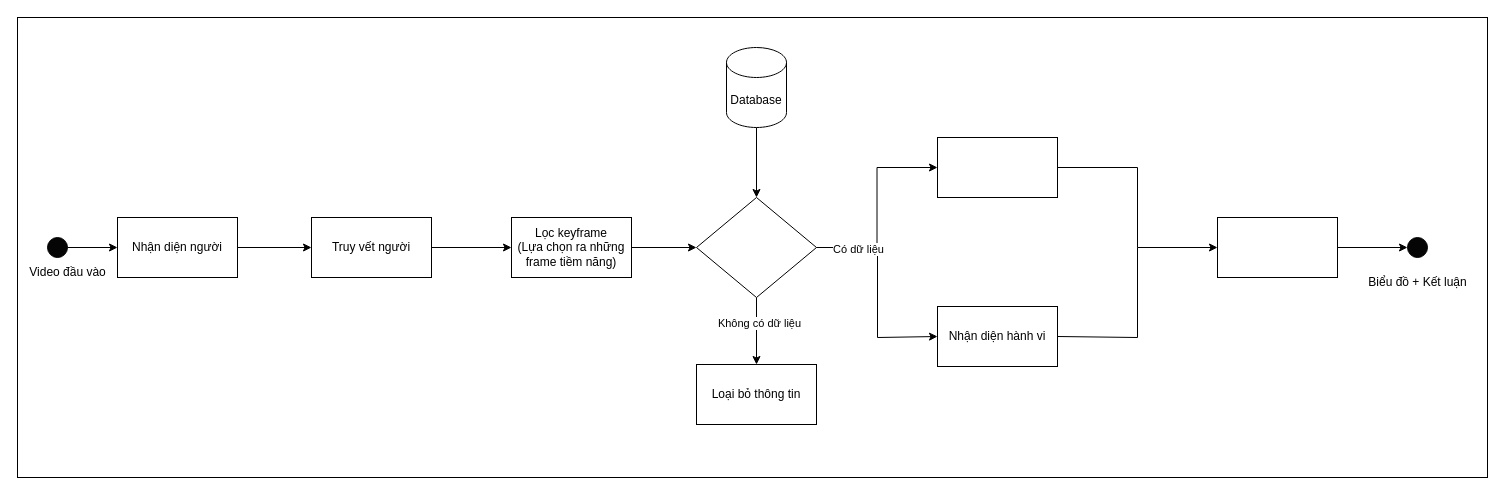
This 1505x495 diagram has some shape labels left out. The shapes that lost their labels are listed below. From the top down, each one's centre as x and y in pixels, then its label:
At pixel 997 167: "Nhận diện cảm xúc khuôn mặt".
At pixel 756 247: "Nhận diện khuôn mặt".
At pixel 1277 247: "Phân tích / Thống kê".
